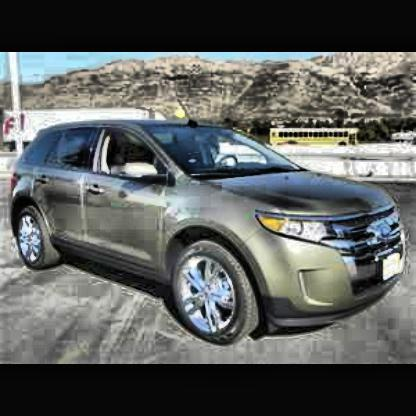Ford Edge SUV 2012: (11, 96, 408, 349)
